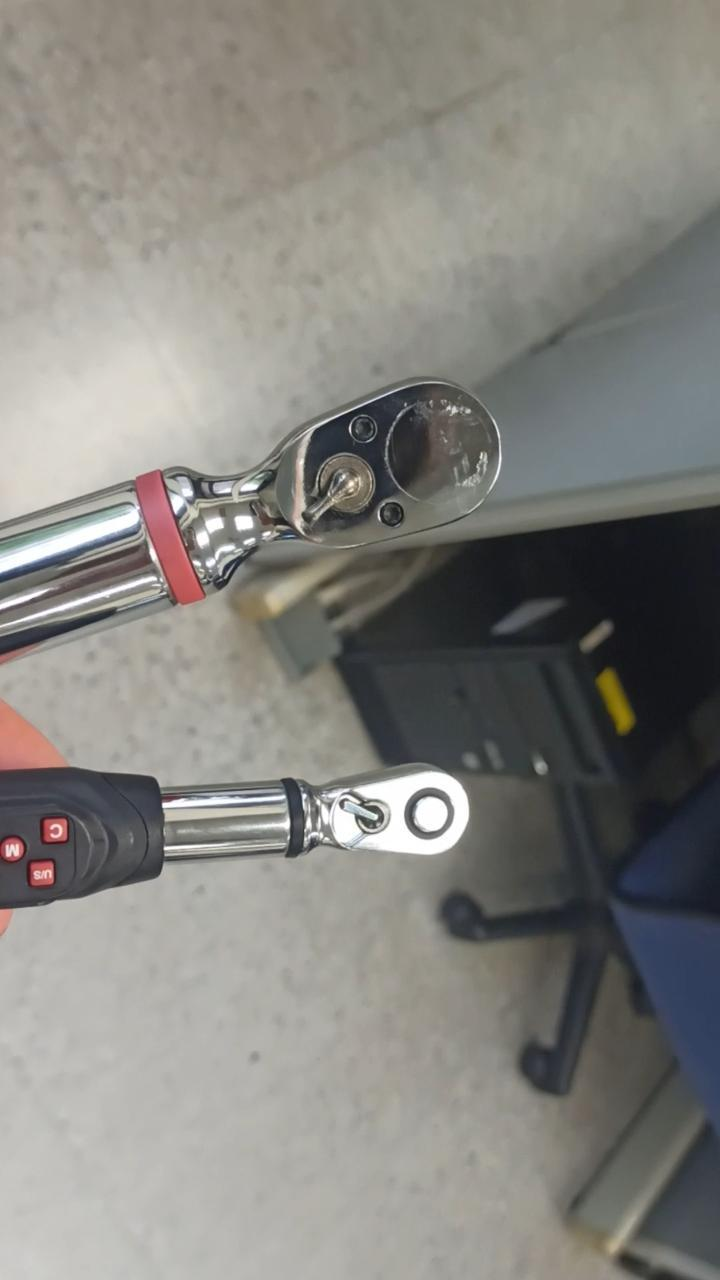Tool: (168, 372, 508, 582), (300, 760, 476, 856)
